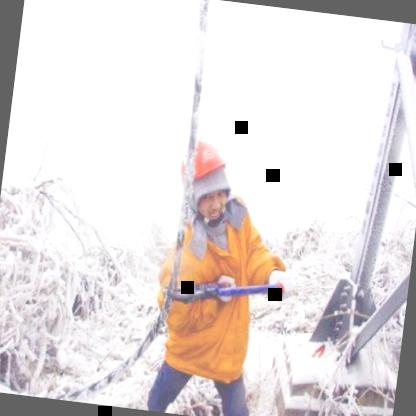helmet: (181, 130, 240, 227)
